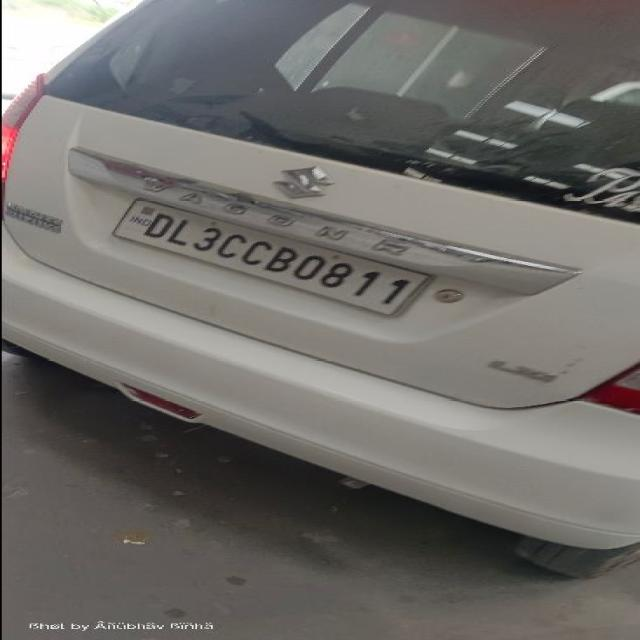license_plate: (110, 196, 434, 318)
